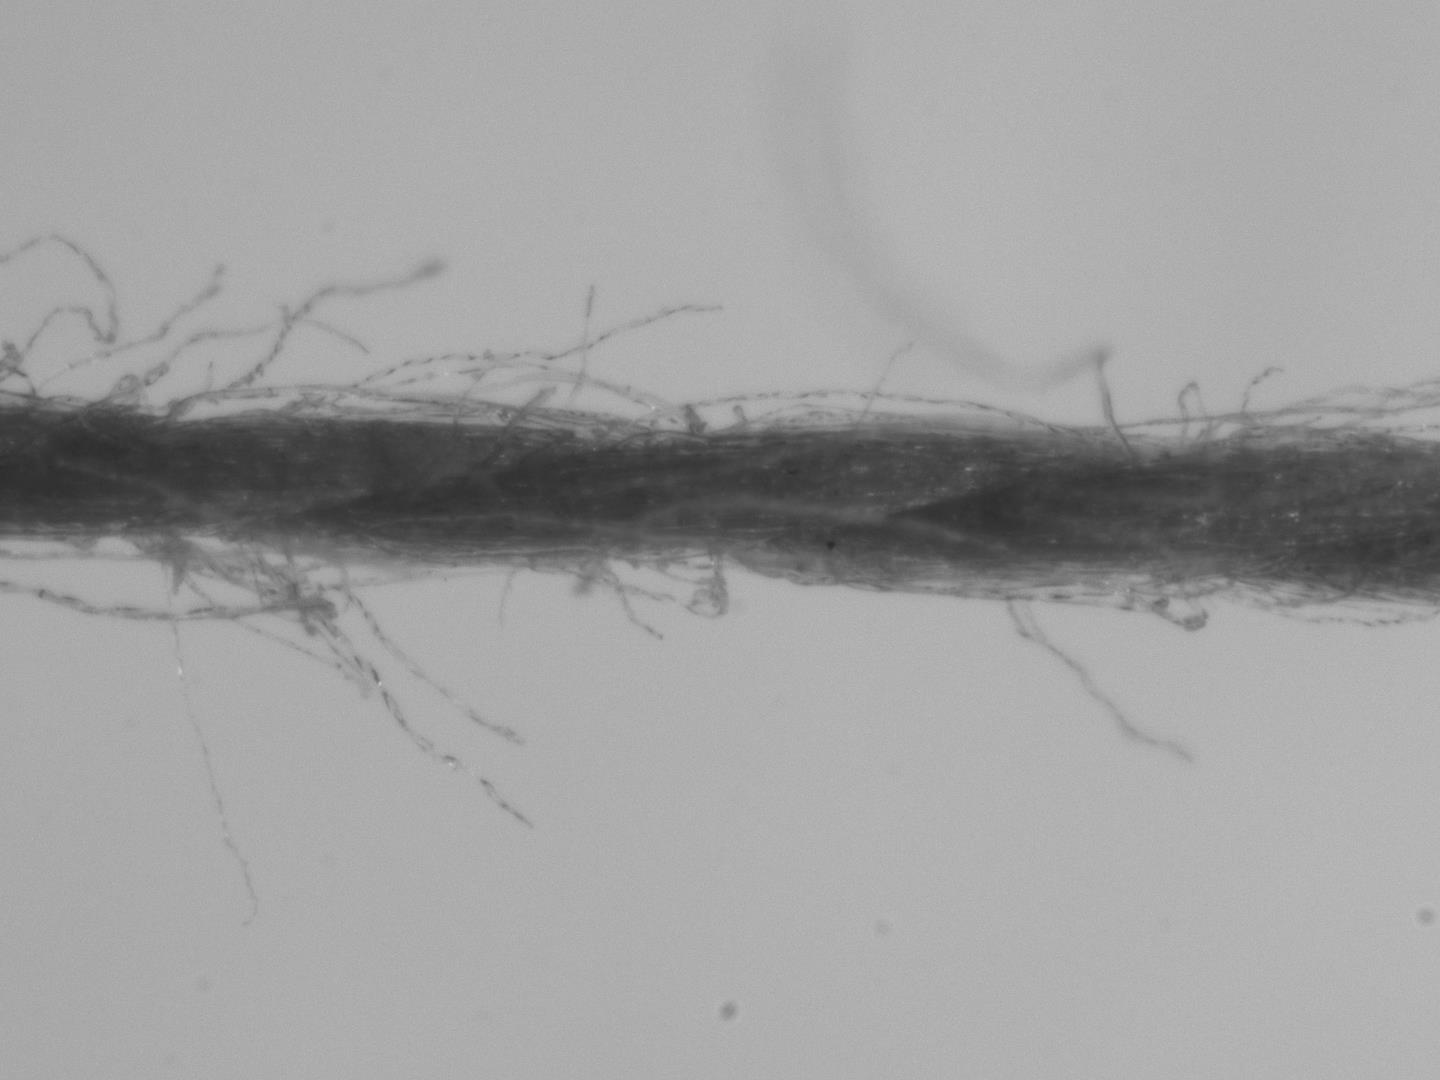loop_fiber: (8, 540, 337, 641), (638, 383, 1087, 440), (367, 372, 709, 427), (554, 554, 736, 631), (1079, 584, 1220, 634), (1175, 373, 1217, 450)
protruding_fiber: (225, 547, 544, 847), (133, 542, 277, 942), (304, 288, 737, 415), (150, 245, 459, 416), (299, 551, 544, 756), (985, 585, 1215, 775), (12, 247, 239, 399), (78, 311, 384, 413), (3, 231, 128, 383), (838, 321, 940, 425), (558, 265, 617, 424), (584, 558, 677, 655), (1089, 335, 1146, 446), (1230, 358, 1301, 436), (492, 556, 535, 644)
